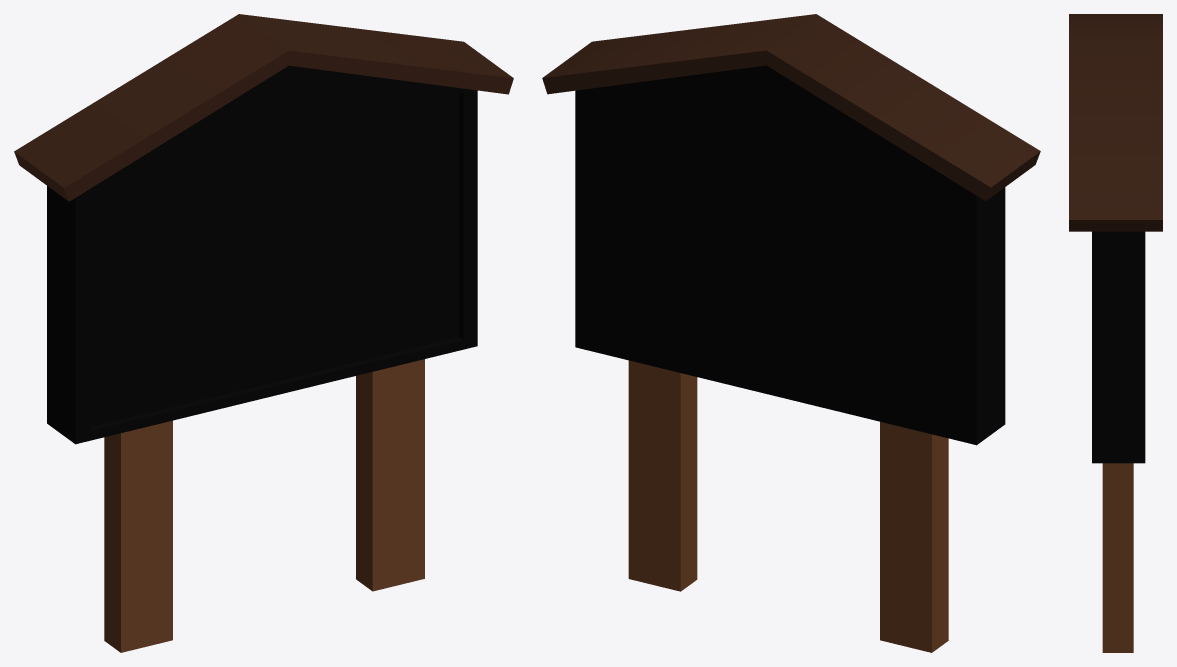
Rendered from board.FBX.
3 renders of one model, left to right at view 1: azimuth 30°, elevation 25°; view 2: azimuth 150°, elevation 25°; view 3: azimuth 270°, elevation 25°, orthographic. The views are drawn at different scales.
Parts seen in each view (by area): view 1: Box001, Box005, Box004; view 2: Box001, Box005, Box004; view 3: Box001, Box005.
Boxes of the visible parts, x1,y1,x2,y2 form: Box001: [14, 14, 513, 444]; Box005: [356, 359, 424, 591]; Box004: [104, 420, 172, 652]; Box001: [542, 14, 1040, 445]; Box005: [628, 360, 697, 591]; Box004: [880, 421, 948, 652]; Box001: [1069, 14, 1162, 463]; Box005: [1102, 463, 1133, 652].
Bounding box in the file's own units: 116 × 22.39 × 143.
